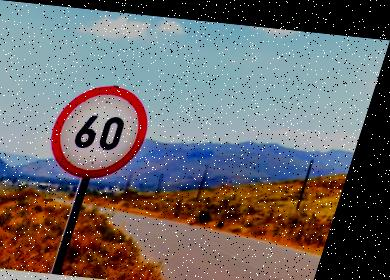Speed Limit -60-: (46, 76, 165, 179)
